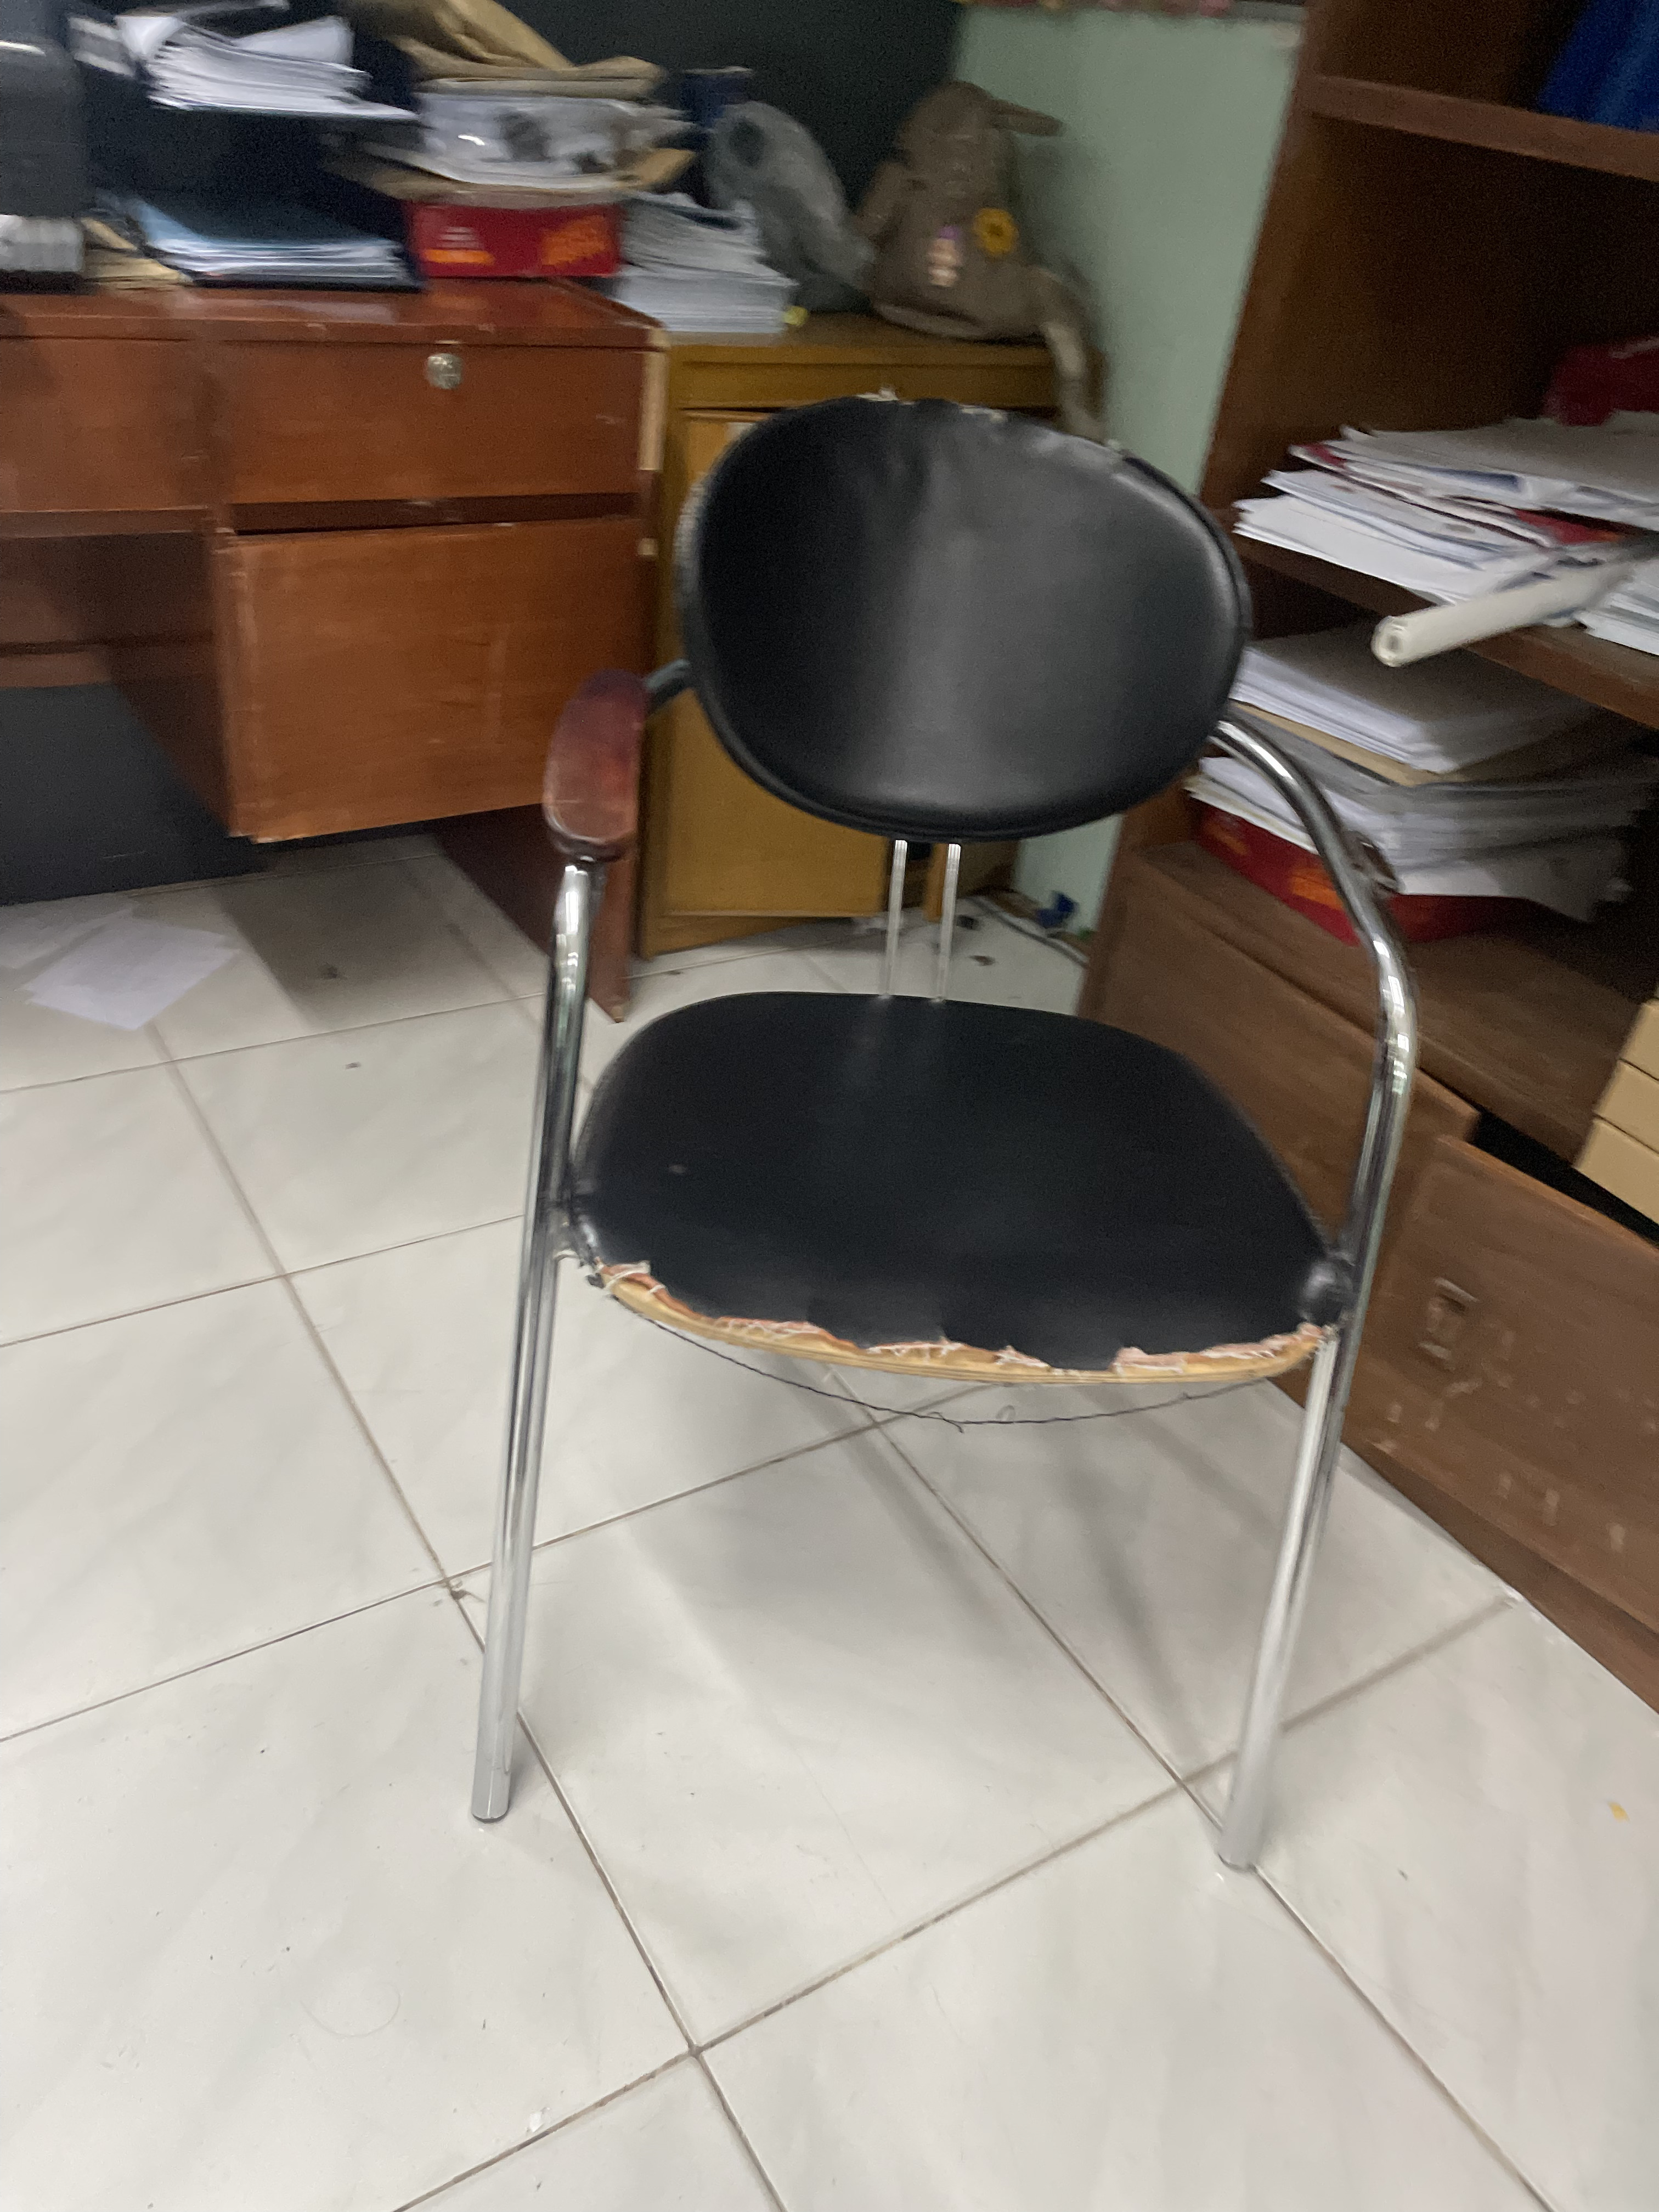chair1: (448, 397, 1431, 1898)
